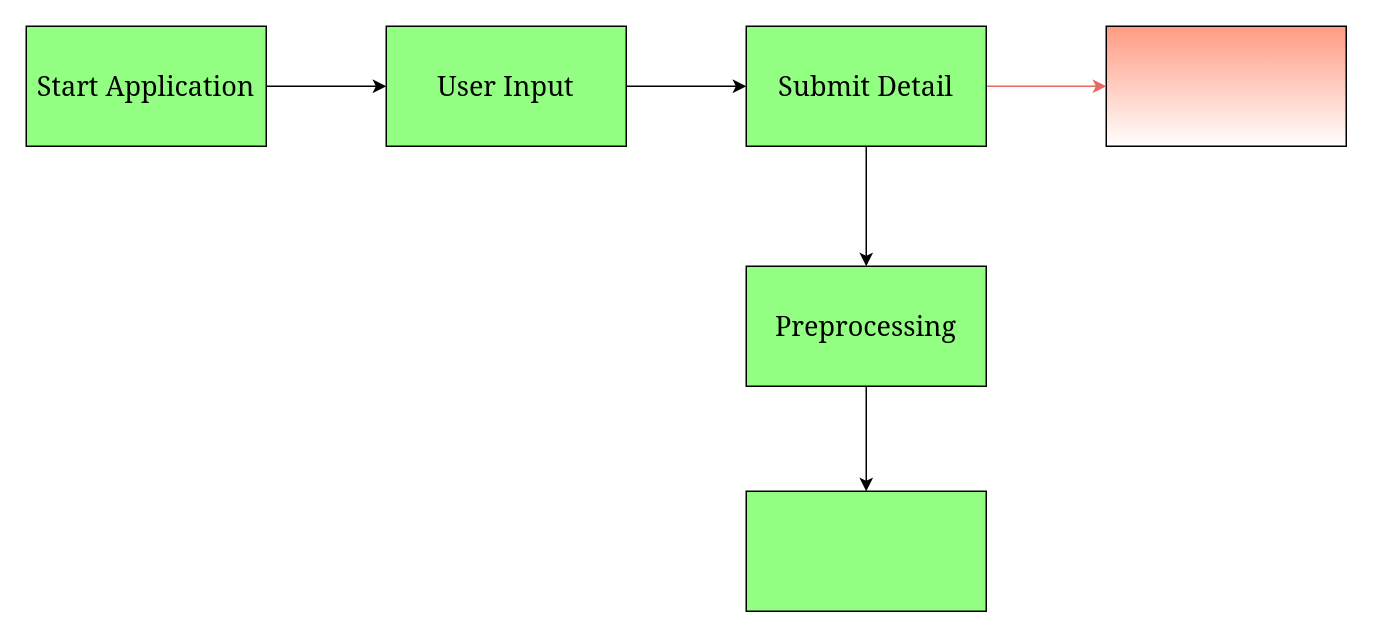
The diagram is 1373 pixels wide and 638 high, and some of its shapes have lost their labels. The box of each missing label's shape, as (x1, y1, x2, y2) in pixels:
Predicted Result: (745, 490, 986, 611)
Showing Error page: (1105, 25, 1346, 146)
